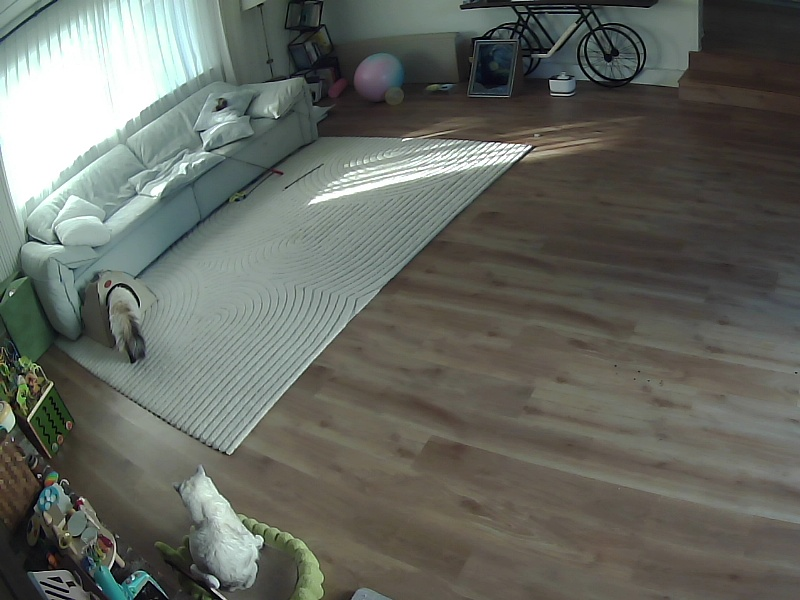Qb-2: (175, 465, 263, 590)
Qbo-2: (106, 284, 145, 362)
